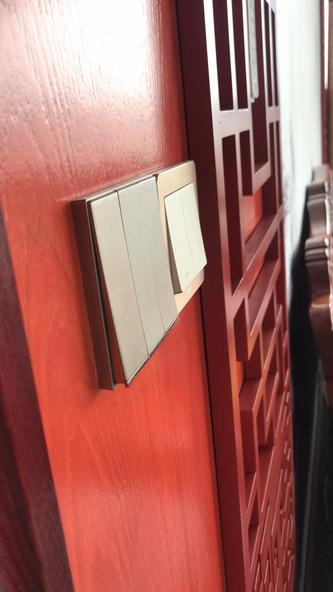switch: (84, 196, 150, 384)
